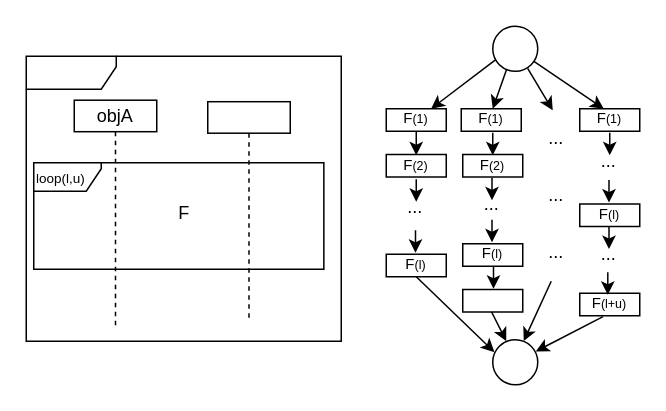
This 666x411 diagram has some shape labels left out. The shapes that lost their labels are listed below. From the top down, each one's box as (x1, y1, x2, y2) in pixels, then its label:
(491, 25, 538, 71): start
(25, 55, 341, 341): example
(206, 100, 290, 321): objB
(461, 288, 523, 312): F (l+1)
(491, 338, 538, 385): end
